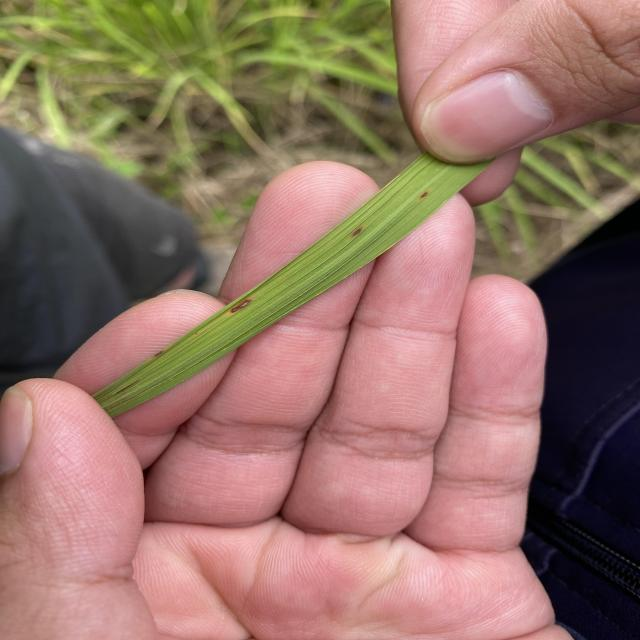Dom nau: (228, 298, 254, 315), (349, 226, 365, 237), (154, 349, 166, 357), (419, 191, 429, 199)
